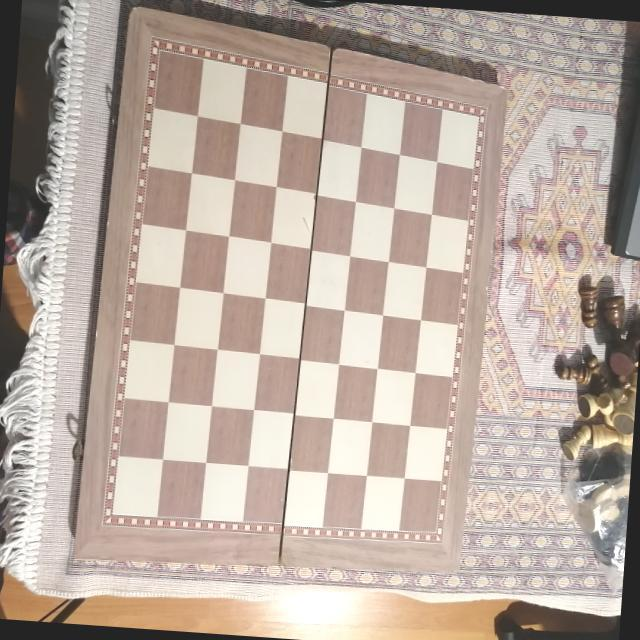corners: (446, 558, 469, 580), (62, 544, 86, 565), (496, 81, 516, 105), (128, 0, 150, 19)
